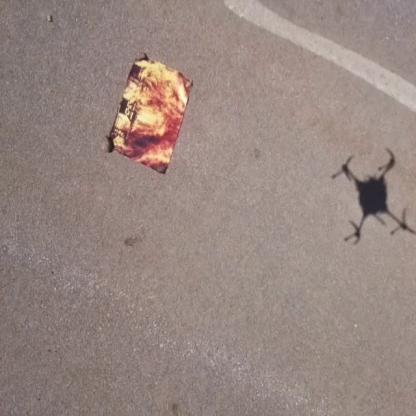fire-poster: (105, 52, 194, 176)
